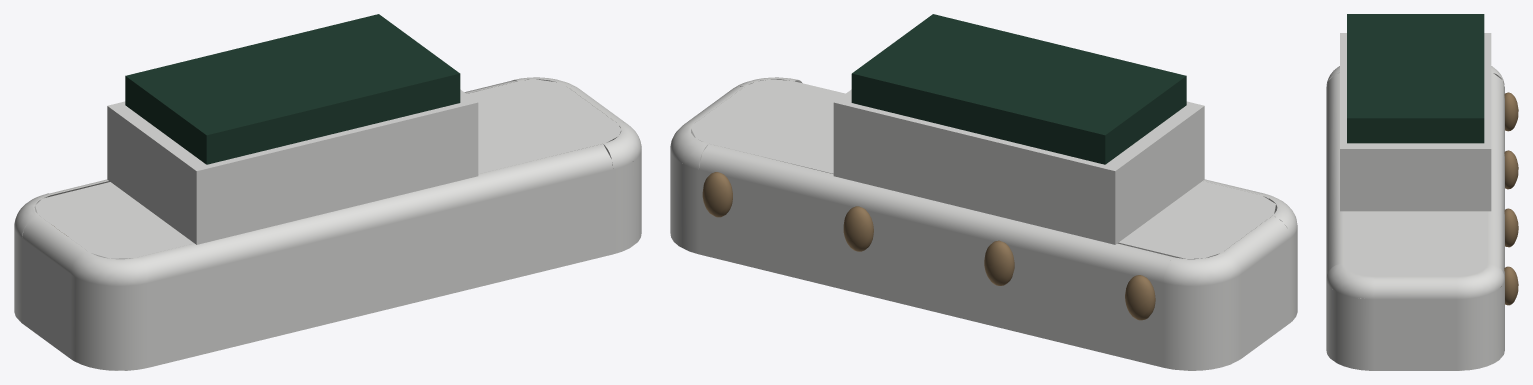
Rendered from f32-moored-cruiser.lod1.glb.
3 renders of one model, left to right at view 1: azimuth 30°, elevation 25°; view 2: azimuth 150°, elevation 25°; view 3: azimuth 270°, elevation 25°, orthographic. The views are drawn at different scales.
Visible parts, largest first — view 1: part0, part2, part1; view 2: part0, part2, part1, part3, part5, part4, part6; view 3: part0, part2, part1, part4, part6, part3, part5.
Part boxes in pixels (x1,y1,x2,y2): part0: (14, 77, 641, 370); part2: (125, 14, 460, 164); part1: (107, 89, 478, 244); part0: (670, 77, 1297, 370); part2: (851, 14, 1186, 164); part1: (833, 89, 1204, 244); part3: (1125, 275, 1155, 320); part5: (843, 206, 873, 251); part4: (984, 240, 1014, 285); part6: (702, 172, 732, 217); part0: (1326, 66, 1504, 370); part2: (1347, 14, 1484, 143); part1: (1340, 33, 1491, 211); part4: (1504, 150, 1518, 189); part6: (1501, 266, 1518, 305); part3: (1504, 92, 1518, 131); part5: (1504, 208, 1518, 247).
Size of the model in its own units: 8000 by 2800 by 2799.
